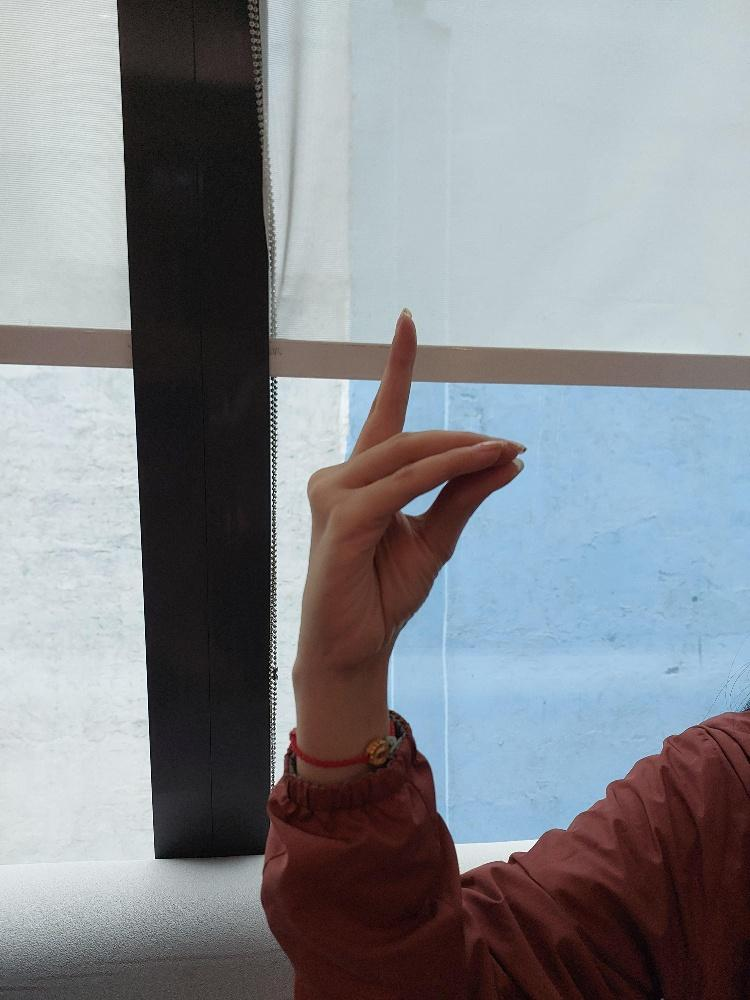d: (296, 306, 529, 674)
